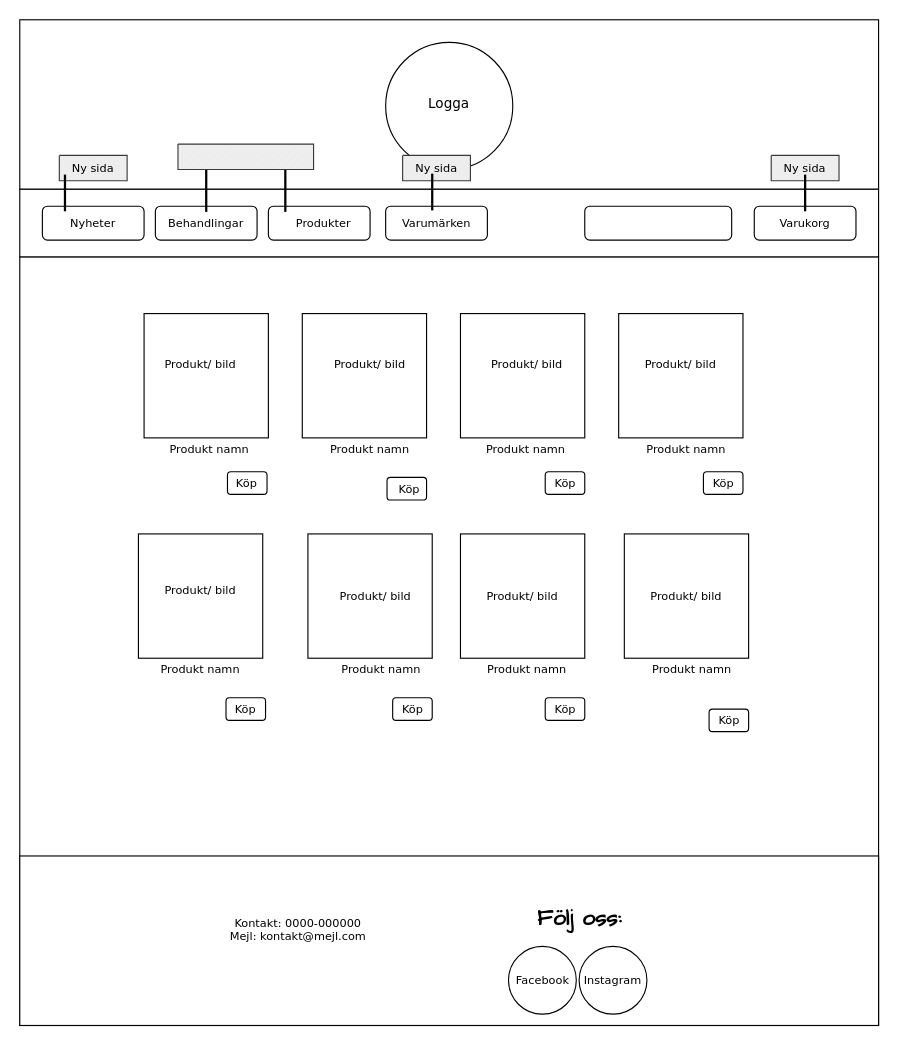
The diagram is 898 pixels wide and 1045 high, and some of its shapes have lost their labels. Here are the shapes that lost their labels. From the top down, the centre of each, then its label:
pixel 245 156: Drop-down meny
pixel 658 222: Sök
